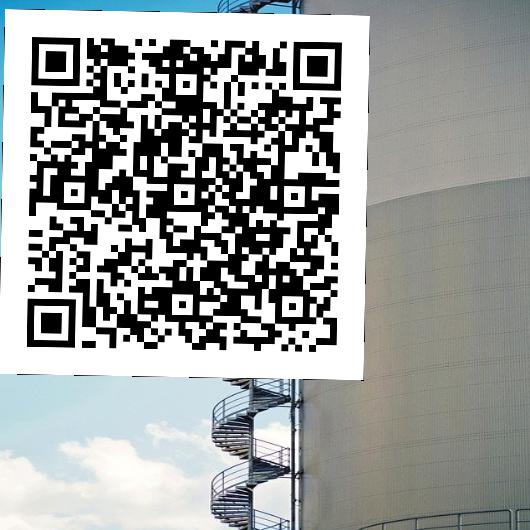qr_code: (0, 10, 369, 379)
